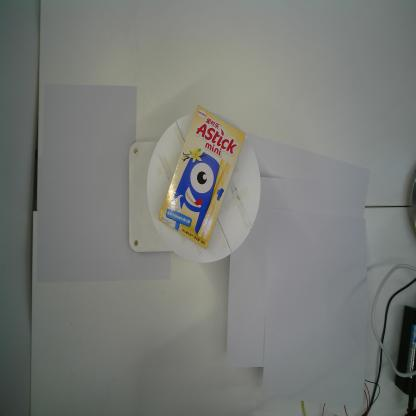Dessert: (158, 104, 246, 249)
